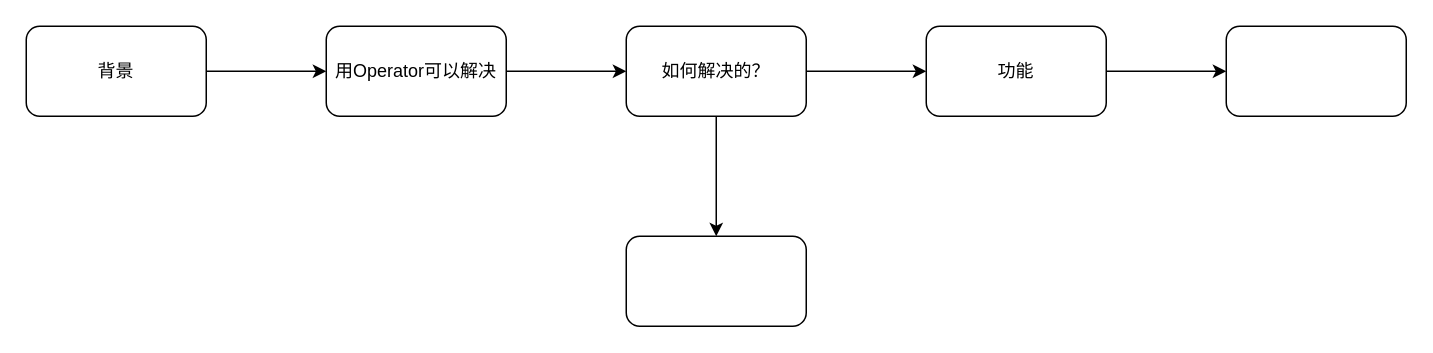
Some shapes in this 1433 by 353 pixel diagram are drawn without their labels. Each missing label, with the box of its shape:
可以解决哪些实际问题: (1225, 25, 1406, 116)
性能表现？: (625, 235, 806, 326)
